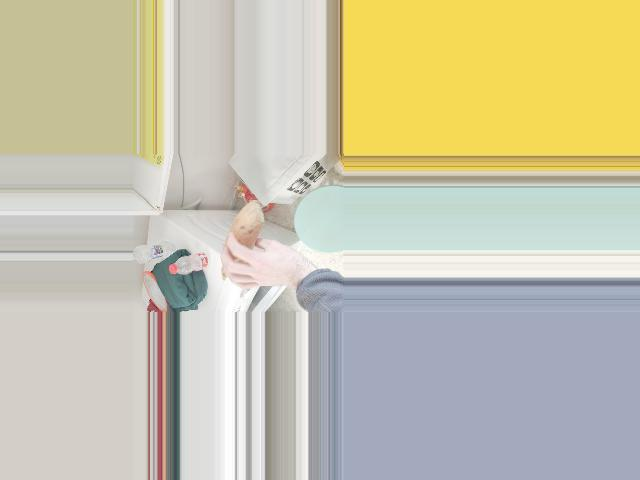sweet_potato: (222, 207, 257, 283)
